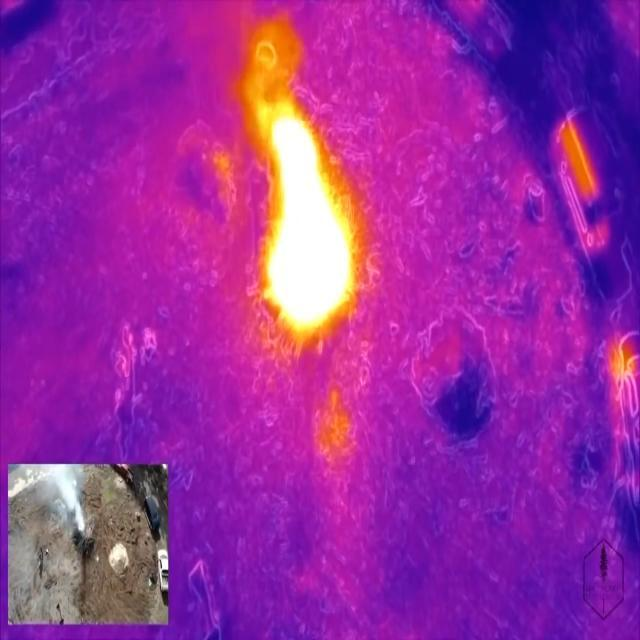fire: (264, 108, 360, 337)
